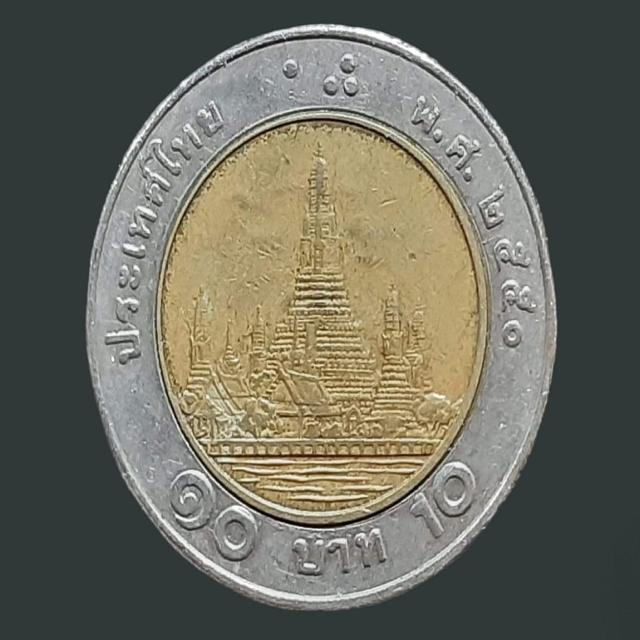10 Bath: (84, 21, 559, 614)
